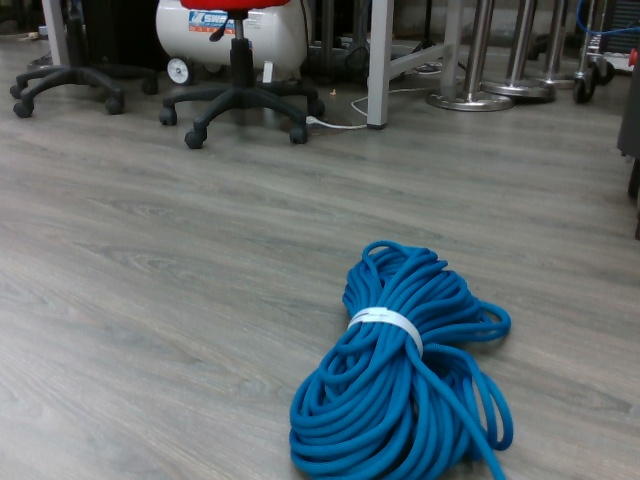rope: (284, 233, 516, 480)
